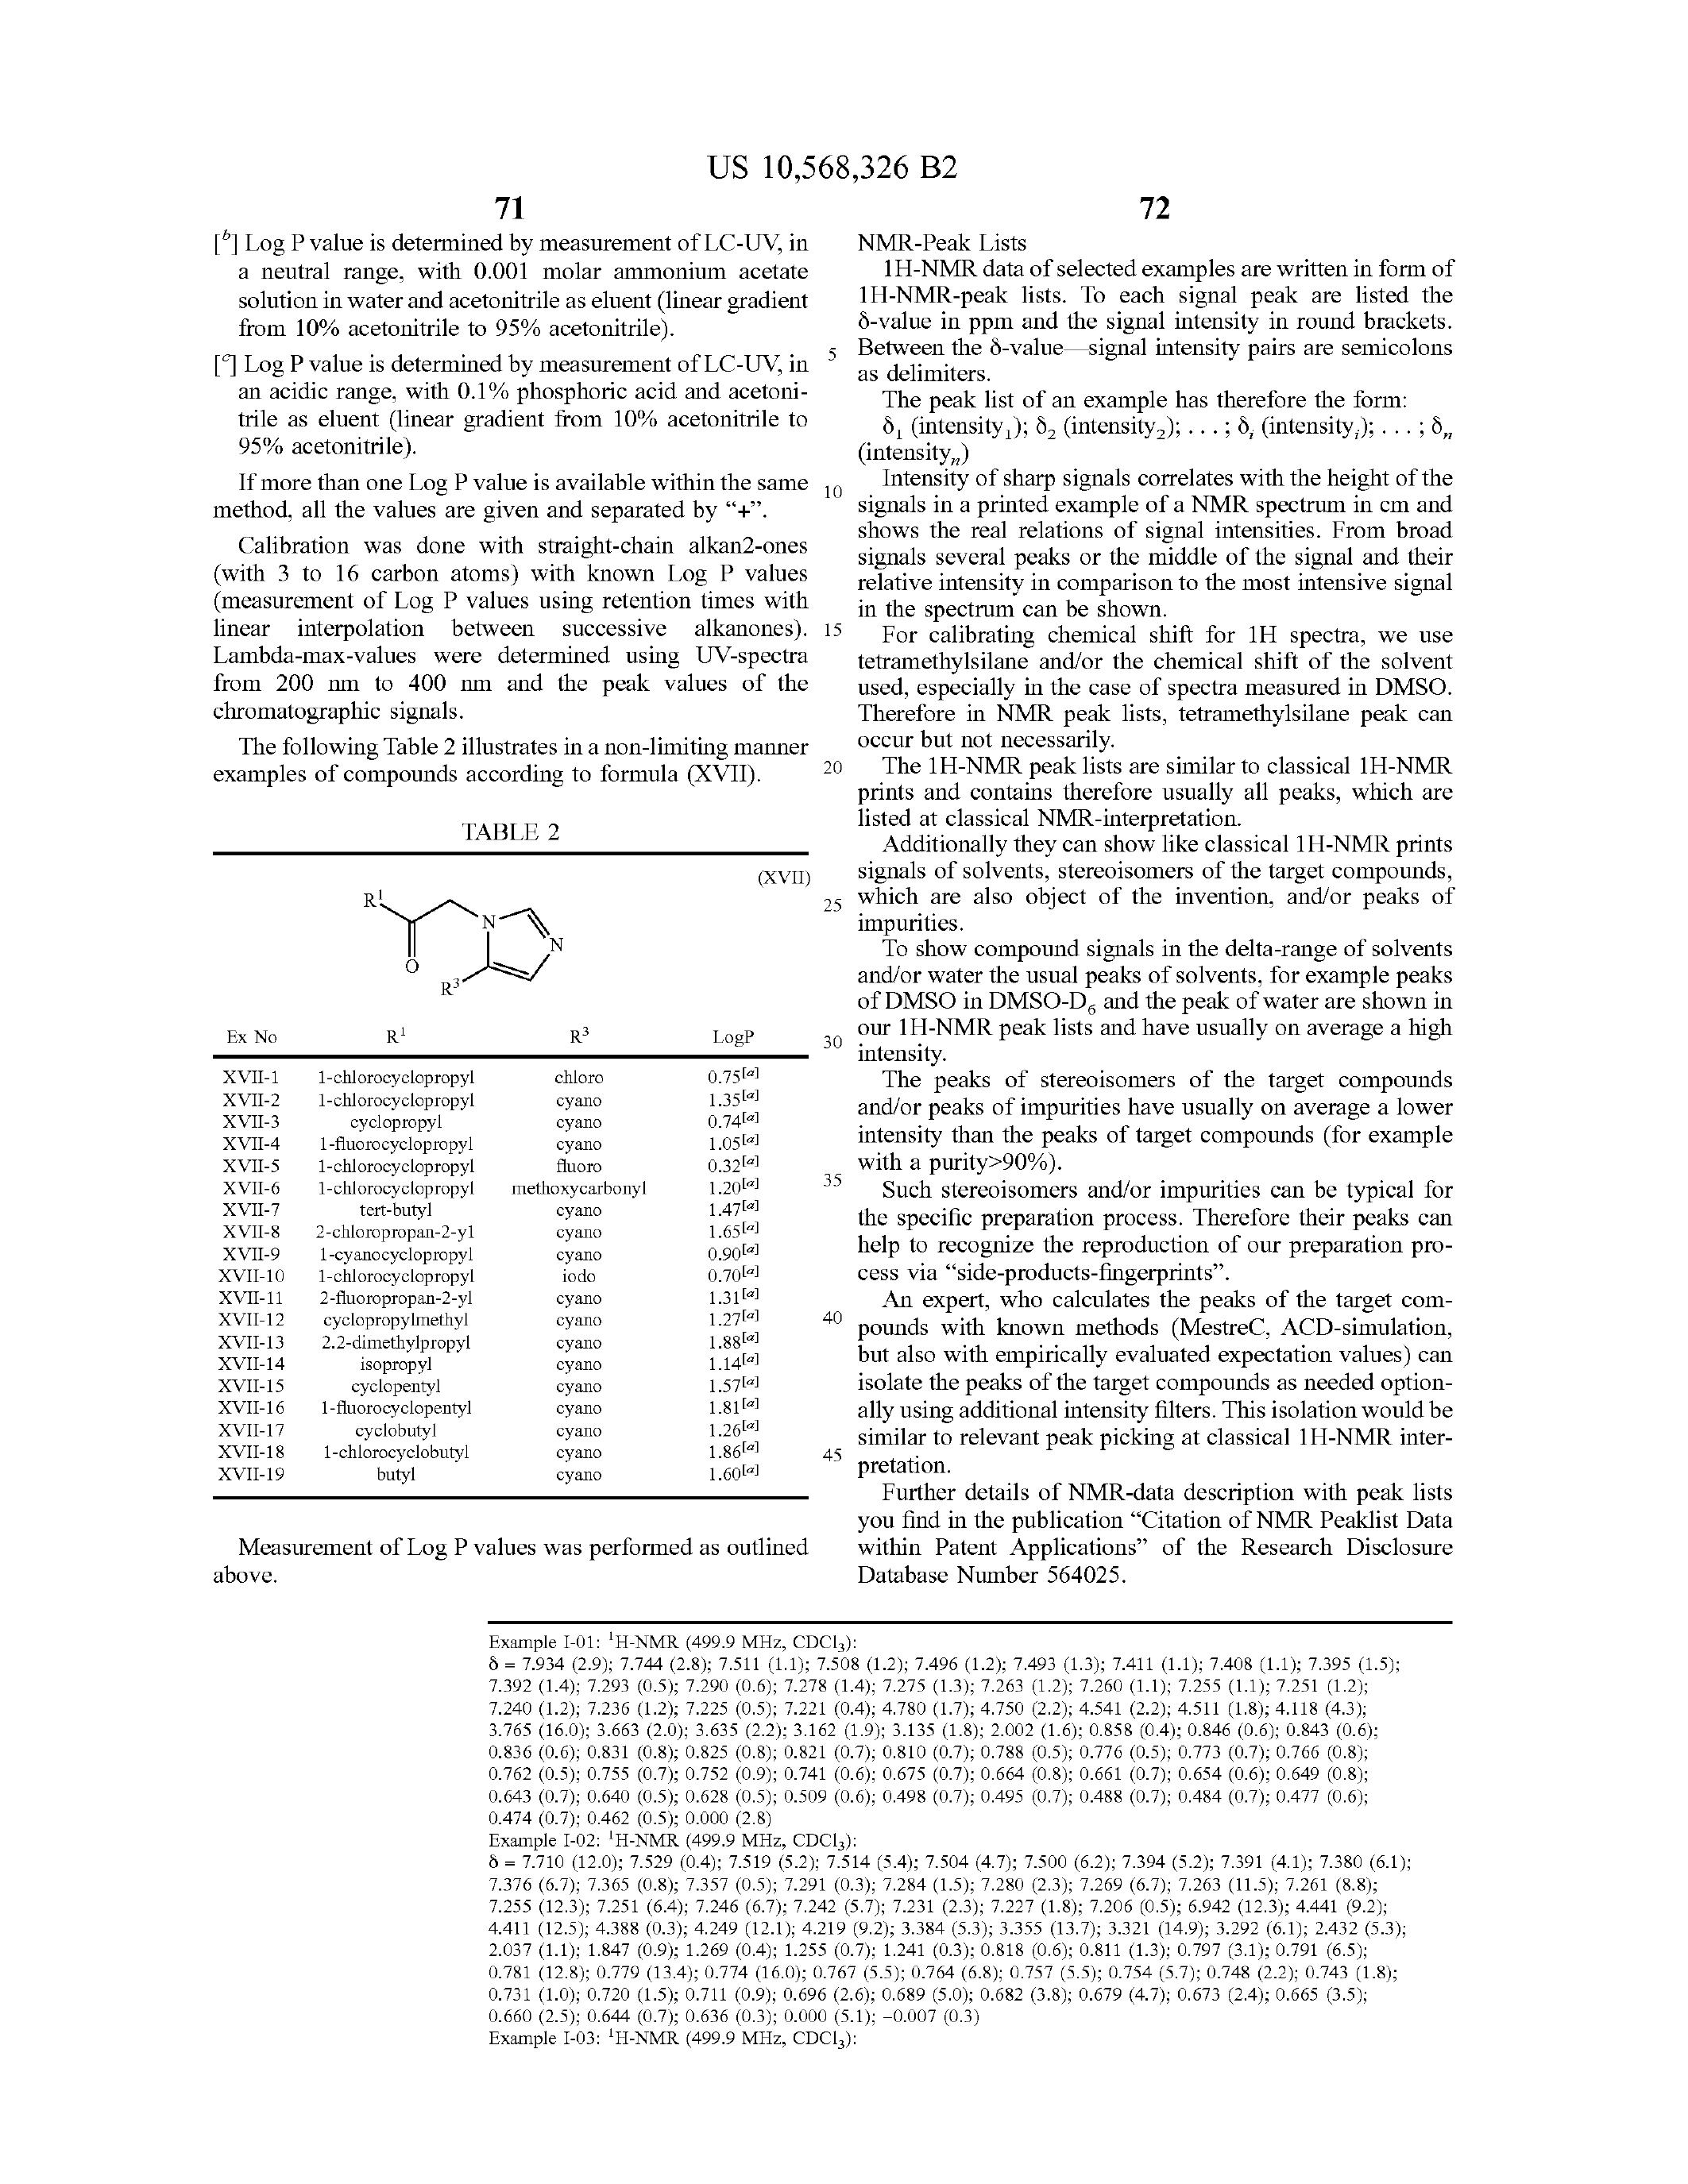substitutes: (314, 867, 598, 1032)
